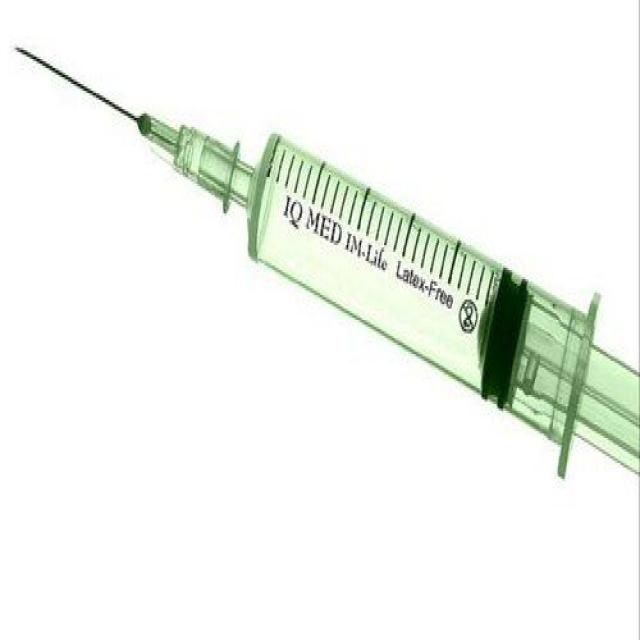pcb: (479, 263, 637, 479)
syringe: (13, 39, 637, 484)
